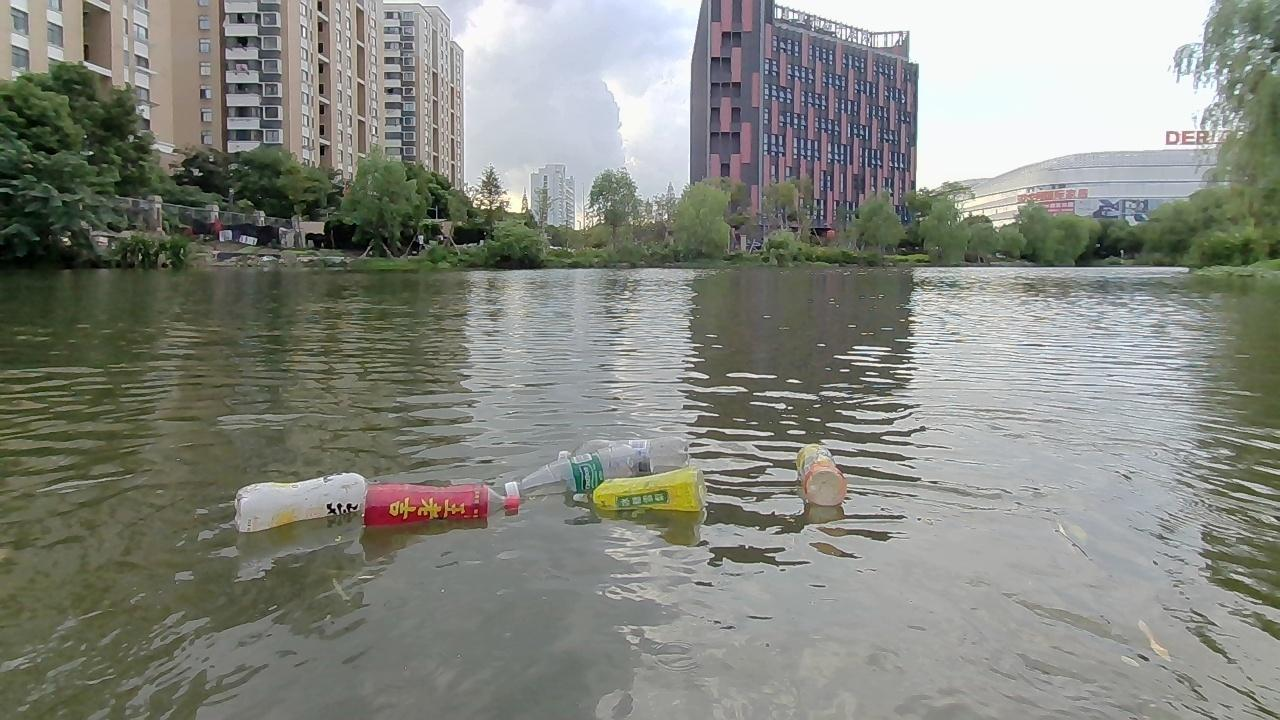bottle: (228, 467, 376, 532), (365, 484, 521, 532), (505, 442, 639, 497), (572, 473, 707, 518), (556, 431, 690, 470), (793, 439, 851, 507)
